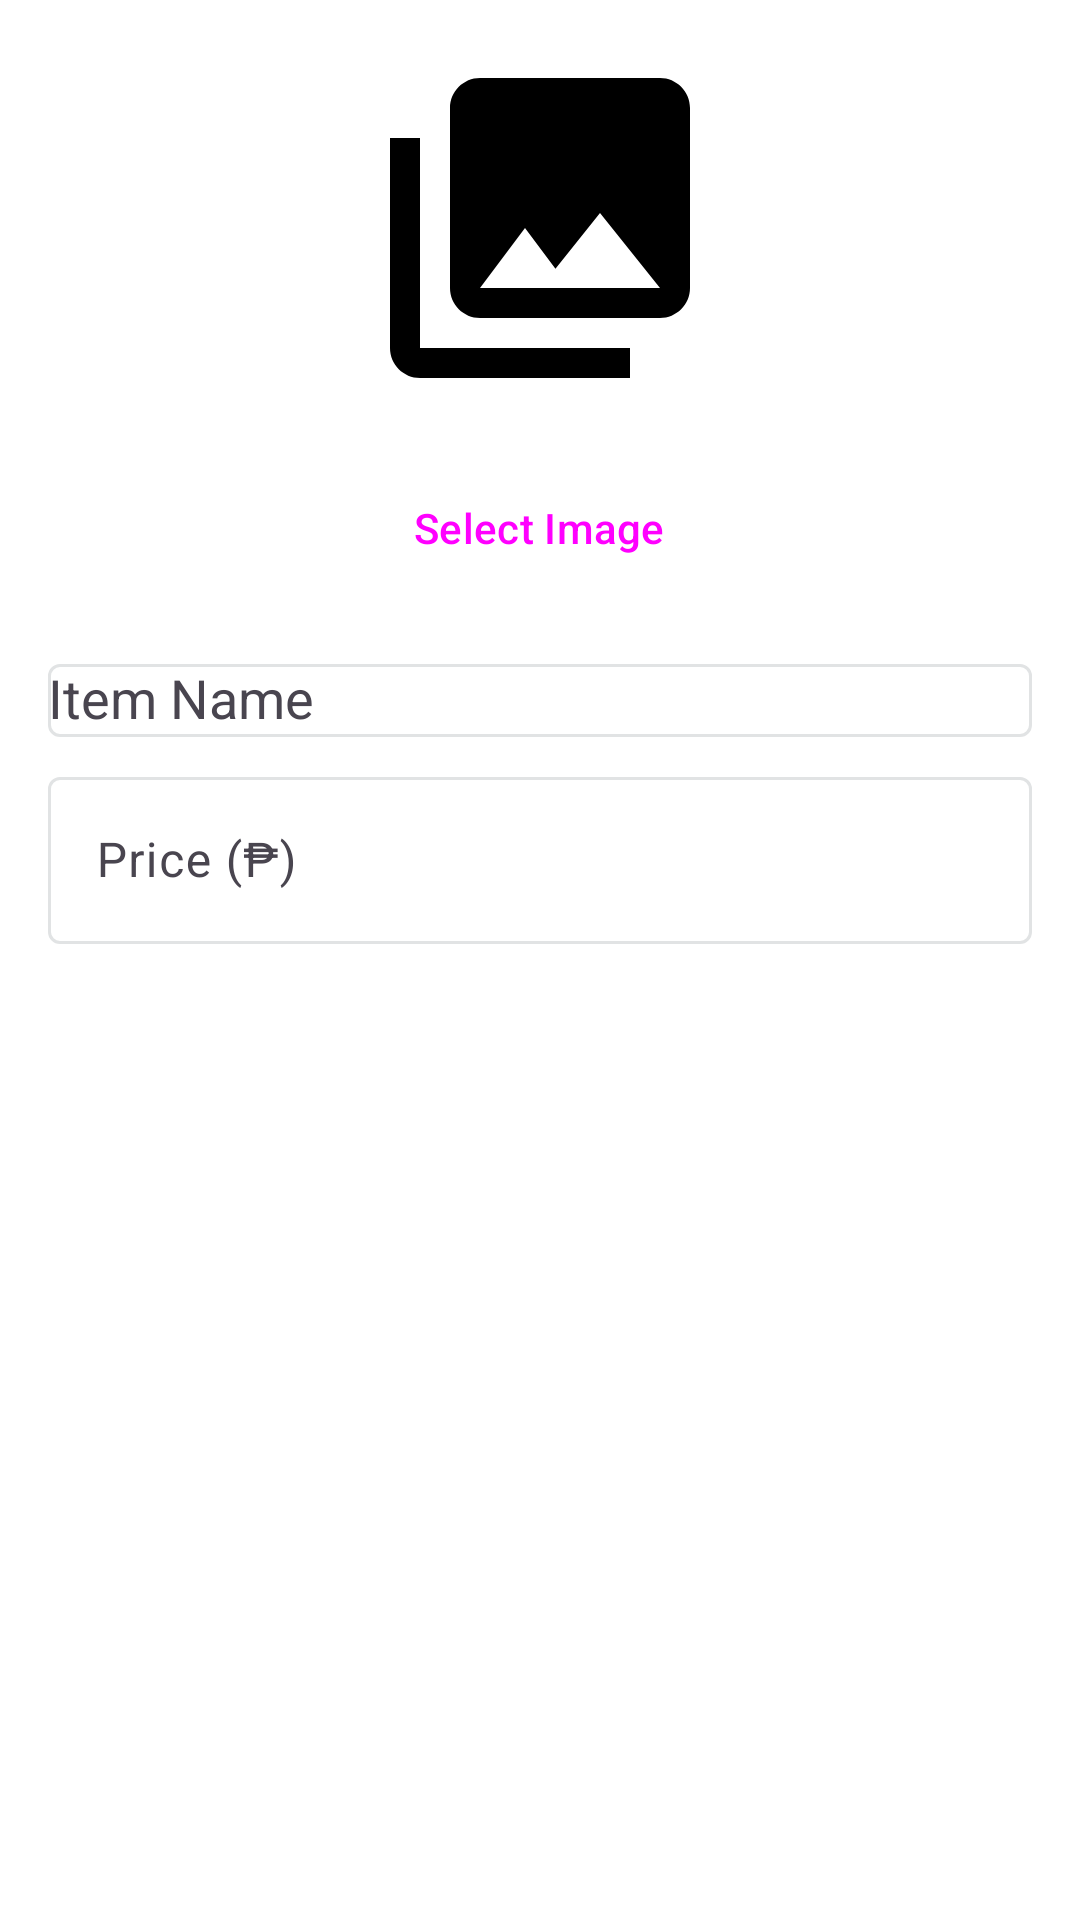

Icon click points for this 1080w x 1920h phone screenshot, format (x=x, y=y):
gallery: (x=540, y=228)
